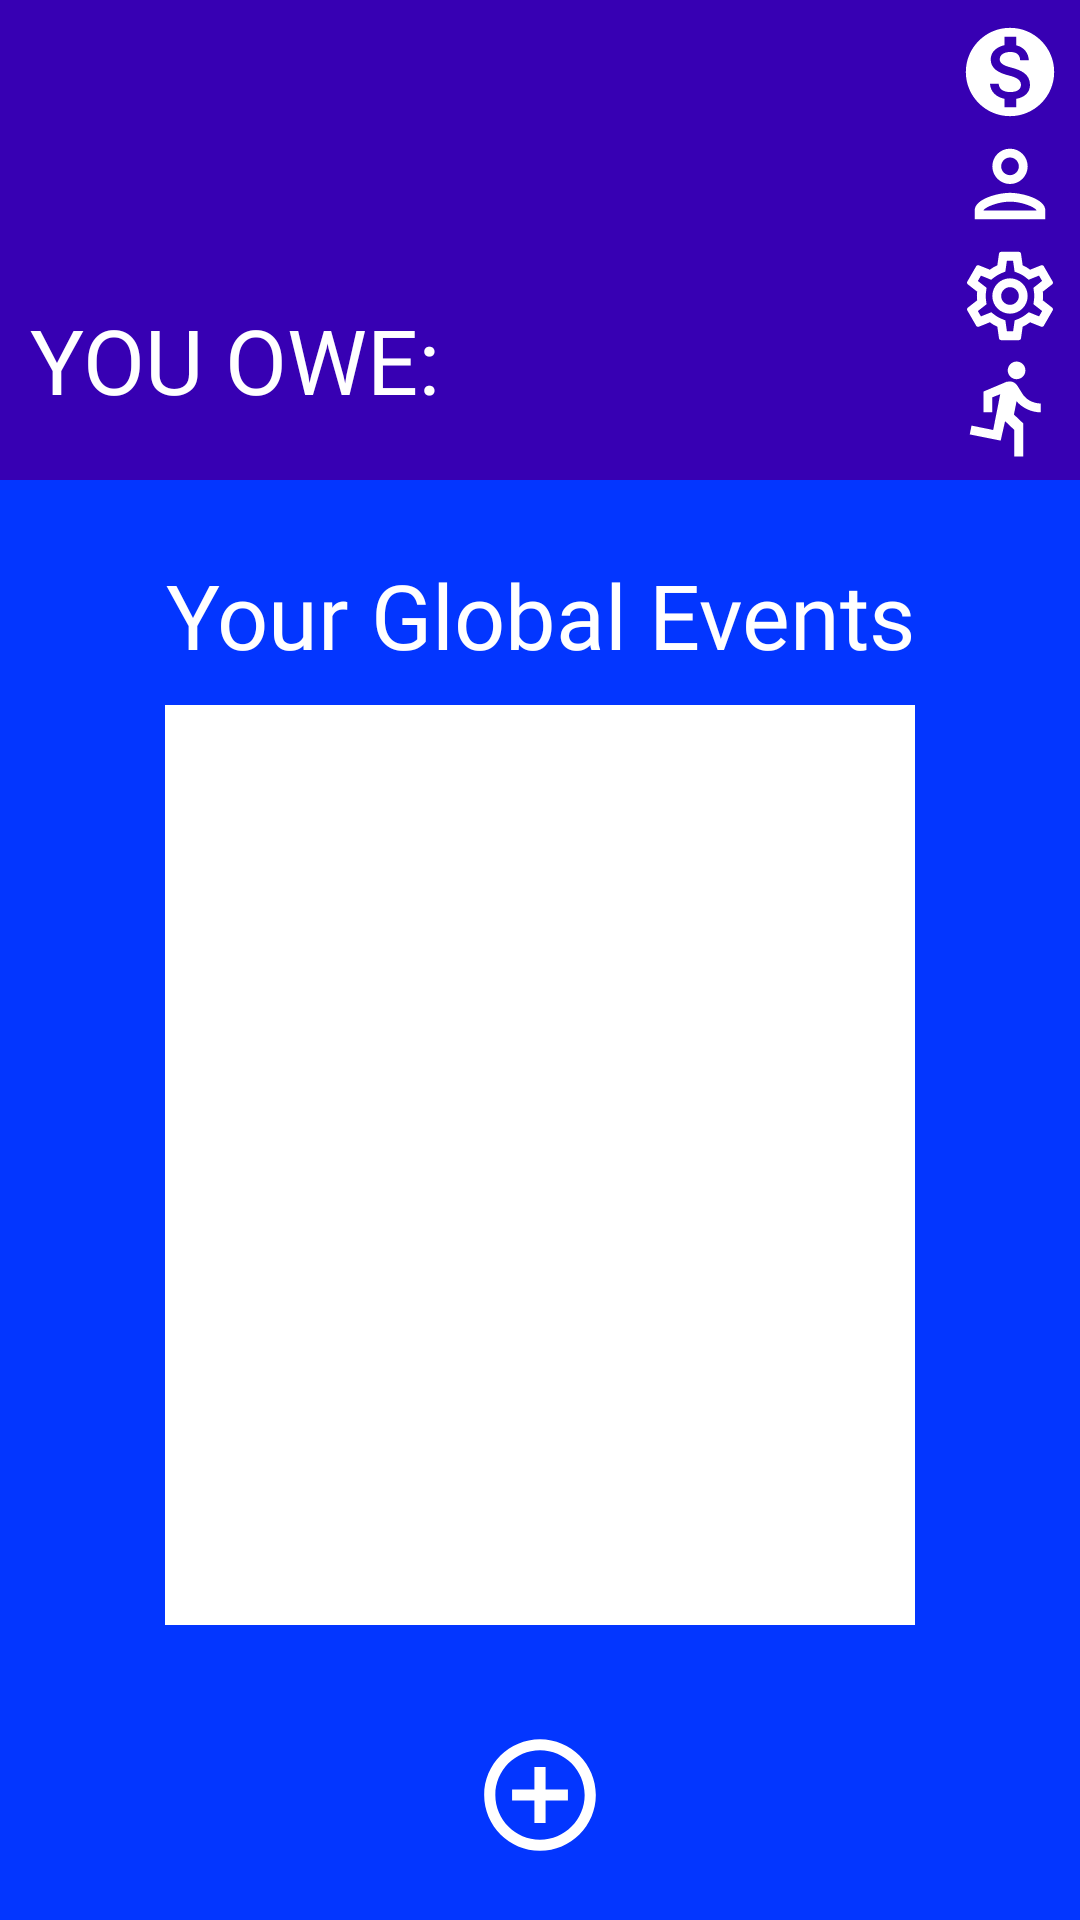

Named icons in this screenshot (1080 x 1920) and their bounding boxes, (x1, y1, x2, y2):
add elem: (484, 1739, 596, 1851)
finances: (965, 27, 1055, 117)
person: (974, 148, 1046, 220)
settings: (967, 251, 1053, 341)
